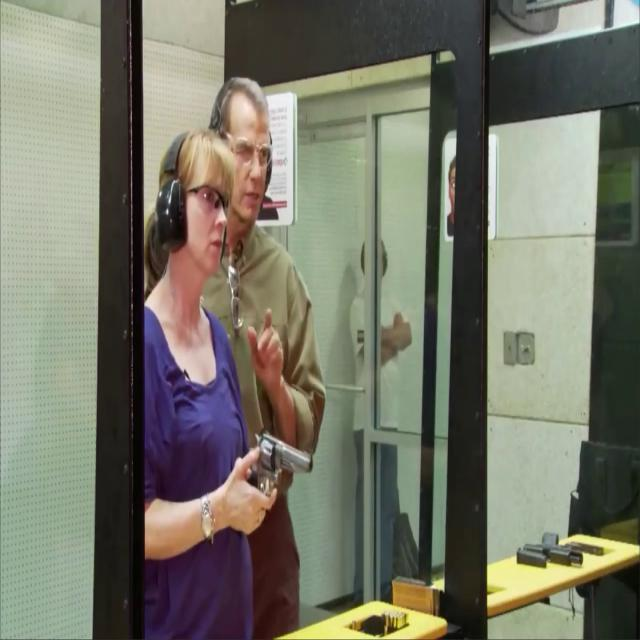Gun: (244, 426, 310, 519)
